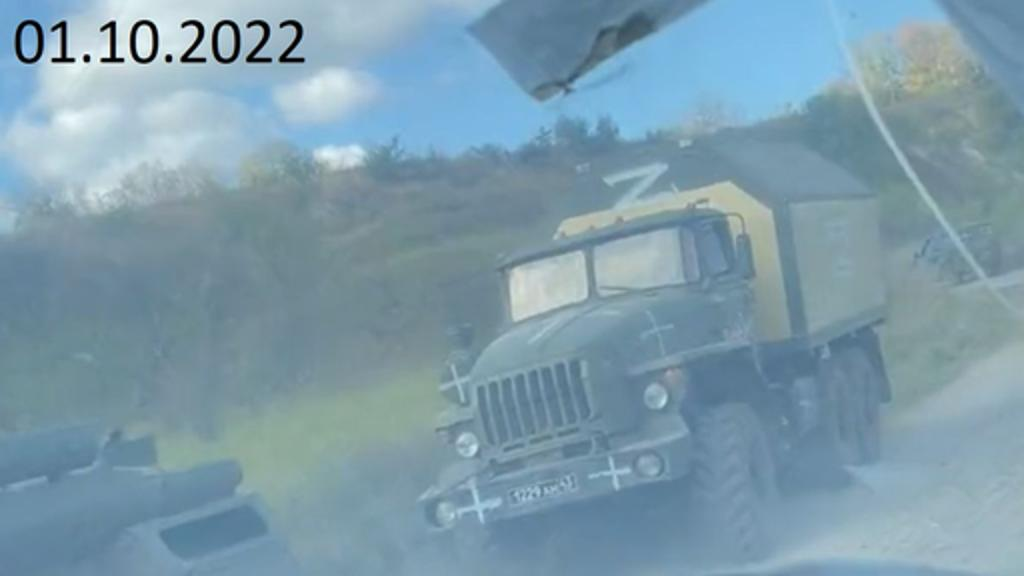CAR: (902, 212, 1006, 292)
TRUCK: (410, 128, 896, 574)
